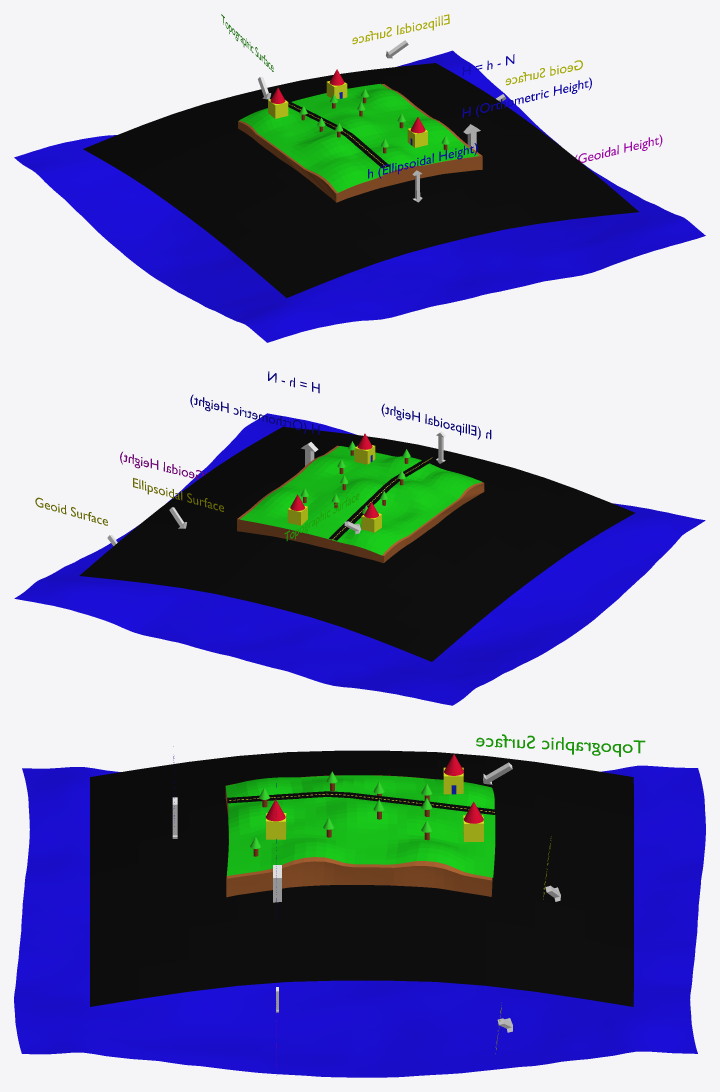
File: Combined Surface.gltf
3 renders of one model, top to bottom at view 1: azimuth 30°, elevation 25°; view 2: azimuth 150°, elevation 25°; view 3: azimuth 270°, elevation 25°, orthographic. The views are drawn at different scales.
Visible parts, largest first — view 1: Cube.007, Cube.008, Cube, Text.001, Text; view 2: Cube.007, Cube.008, Cube, Text.001, Text; view 3: Cube.007, Cube.008, Cube, Text.003.
Boxes of the visible parts, box(x1,y1,x2,y2) form: Cube.007: box(83, 63, 638, 297); Cube.008: box(14, 50, 705, 342); Cube: box(238, 69, 482, 202); Text.001: box(462, 77, 591, 117); Text: box(368, 143, 477, 178); Cube.007: box(79, 427, 635, 661); Cube.008: box(14, 413, 705, 705); Cube: box(237, 433, 484, 563); Text.001: box(190, 394, 319, 434); Text: box(381, 403, 491, 439); Cube.007: box(90, 750, 633, 1006); Cube.008: box(14, 765, 705, 1077); Cube: box(225, 754, 495, 897); Text.003: box(476, 734, 645, 756).
Size of the model in its own units: 111 by 33.59 by 101.
